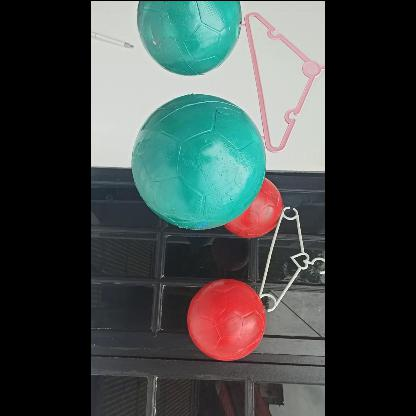red_ball: (188, 277, 269, 358)
